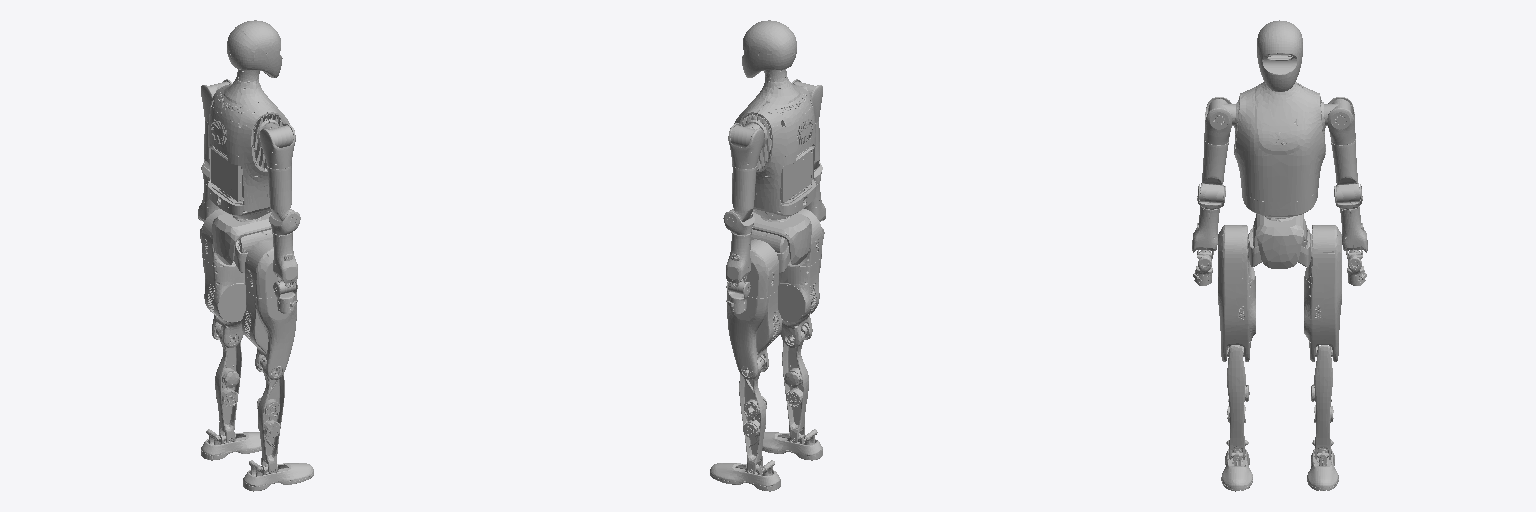
--- What the picture shows (computed from the rendered views, not written in the file) ---
The picture shows the robot from 3 angles, left to right: view 1: azimuth 30°, elevation 25°; view 2: azimuth 150°, elevation 25°; view 3: azimuth 270°, elevation 25°; orthographic projection.
Model tiangong2pro_urdf with 34 links and 33 joints (30 revolute, 3 fixed), rooted at pelvis, posed every joint at zero.
Visible links, largest first — view 1: body_yaw_link, hip_yaw_r_link, hip_yaw_l_link, head_roll_link, pelvis, knee_pitch_r_link, knee_pitch_l_link, hip_pitch_r_link, ankle_roll_r_link, ankle_roll_l_link, shoulder_yaw_r_link, elbow_yaw_r_link (+2 smaller); view 2: body_yaw_link, hip_yaw_l_link, hip_yaw_r_link, head_roll_link, pelvis, knee_pitch_r_link, knee_pitch_l_link, hip_pitch_l_link, ankle_roll_l_link, ankle_roll_r_link, shoulder_yaw_l_link, elbow_yaw_l_link (+2 smaller); view 3: body_yaw_link, head_roll_link, hip_yaw_r_link, hip_yaw_l_link, pelvis, knee_pitch_l_link, knee_pitch_r_link, hip_pitch_l_link, hip_pitch_r_link, shoulder_yaw_l_link, shoulder_yaw_r_link, ankle_roll_r_link (+5 smaller).
Link boxes in pixels (bbox=[...]): body_yaw_link: bbox=[208, 78, 291, 219]; hip_yaw_r_link: bbox=[242, 290, 296, 379]; hip_yaw_l_link: bbox=[203, 259, 245, 347]; head_roll_link: bbox=[227, 20, 282, 77]; pelvis: bbox=[212, 212, 272, 264]; knee_pitch_r_link: bbox=[257, 358, 284, 473]; knee_pitch_l_link: bbox=[215, 326, 241, 442]; hip_pitch_r_link: bbox=[245, 240, 296, 298]; ankle_roll_r_link: bbox=[243, 460, 313, 491]; ankle_roll_l_link: bbox=[201, 429, 261, 460]; shoulder_yaw_r_link: bbox=[267, 166, 293, 221]; elbow_yaw_r_link: bbox=[272, 232, 297, 287]; body_yaw_link: bbox=[732, 79, 815, 219]; hip_yaw_l_link: bbox=[727, 290, 781, 379]; hip_yaw_r_link: bbox=[778, 258, 821, 347]; head_roll_link: bbox=[742, 20, 796, 77]; pelvis: bbox=[751, 212, 811, 264]; knee_pitch_r_link: bbox=[782, 326, 808, 442]; knee_pitch_l_link: bbox=[739, 358, 766, 473]; hip_pitch_l_link: bbox=[743, 239, 778, 298]; ankle_roll_l_link: bbox=[710, 460, 780, 491]; ankle_roll_r_link: bbox=[762, 429, 822, 460]; shoulder_yaw_l_link: bbox=[730, 166, 756, 221]; elbow_yaw_l_link: bbox=[726, 232, 751, 287]; body_yaw_link: bbox=[1234, 82, 1325, 218]; head_roll_link: bbox=[1257, 20, 1302, 91]; hip_yaw_r_link: bbox=[1218, 271, 1255, 361]; hip_yaw_l_link: bbox=[1304, 271, 1341, 361]; pelvis: bbox=[1253, 214, 1306, 268]; knee_pitch_l_link: bbox=[1311, 345, 1333, 459]; knee_pitch_r_link: bbox=[1227, 345, 1249, 459]; hip_pitch_l_link: bbox=[1306, 225, 1341, 283]; hip_pitch_r_link: bbox=[1218, 225, 1253, 283]; shoulder_yaw_l_link: bbox=[1331, 139, 1360, 202]; shoulder_yaw_r_link: bbox=[1199, 140, 1228, 202]; ankle_roll_r_link: bbox=[1221, 440, 1252, 491].
Bounding box of the posed robot: 0.3025 × 0.6138 × 1.73 m (x, y, z).
Meshes: 34 distinct files referenced, 34 mesh visuals loaded (34 binary STL).

The robot description file, URDF, robot "tiangong2pro_urdf":
<?xml version='1.0' encoding='utf-8'?>
<robot name="tiangong2pro_urdf">
  <link name="pelvis">
    <inertial>
      <origin xyz="-0.000979 0.00068 -0.076922" rpy="0 0 0" />
      <mass value="5.639" />
      <inertia ixx="0.018304" ixy="-0.004328" ixz="6.1e-05" iyy="0.023292" iyz="6e-05" izz="0.024244" />
    </inertial>
    <visual>
      <origin xyz="0 0 0" rpy="0 0 0" />
      <geometry>
        <mesh filename="../meshes_decimated/pelvis.STL" />
      </geometry>
      <material name="">
        <color rgba="0.752941176470588 0.752941176470588 0.752941176470588 1" />
      </material>
    </visual>
    <collision>
      <origin xyz="0 0 0" rpy="0 0 0" />
      <geometry>
        <mesh filename="../meshes_decimated/pelvis.STL" />
      </geometry>
    </collision>
  </link>
  <link name="hip_roll_l_link">
    <inertial>
      <origin xyz="-0.001848 0.055849 -0.036017" rpy="0 0 0" />
      <mass value="0.672983" />
      <inertia ixx="0.00102" ixy="-7e-05" ixz="3.8e-05" iyy="0.003221" iyz="0.000281" izz="0.003272" />
    </inertial>
    <visual>
      <origin xyz="0 0 0" rpy="0 0 0" />
      <geometry>
        <mesh filename="../meshes_decimated/hip_roll_l_link.STL" />
      </geometry>
      <material name="">
        <color rgba="0.752941176470588 0.752941176470588 0.752941176470588 1" />
      </material>
    </visual>
    <collision>
      <origin xyz="0 0 0" rpy="0 0 0" />
      <geometry>
        <mesh filename="../meshes_decimated/hip_roll_l_link.STL" />
      </geometry>
    </collision>
  </link>
  <joint name="hip_roll_l_joint" type="revolute">
    <origin xyz="0 0.028 -0.0857" rpy="0 0 0" />
    <parent link="pelvis" />
    <child link="hip_roll_l_link" />
    <axis xyz="1 0 0" />
    <limit lower="-0.7853981633974483" upper="0.7853981633974483" effort="235.0" velocity="16.755160819145562" />
  </joint>
  <link name="hip_pitch_l_link">
    <inertial>
      <origin xyz="0.001081 -8.8e-05 -0.013133" rpy="0 0 0" />
      <mass value="3.951912" />
      <inertia ixx="0.010841" ixy="-2.7e-05" ixz="0.000234" iyy="0.015597" iyz="0.000123" izz="0.00934" />
    </inertial>
    <visual>
      <origin xyz="0 0 0" rpy="0 0 0" />
      <geometry>
        <mesh filename="../meshes_decimated/hip_pitch_l_link.STL" />
      </geometry>
      <material name="">
        <color rgba="0.752941176470588 0.752941176470588 0.752941176470588 1" />
      </material>
    </visual>
    <collision>
      <origin xyz="0 0 0" rpy="0 0 0" />
      <geometry>
        <mesh filename="../meshes_decimated/hip_pitch_l_link.STL" />
      </geometry>
    </collision>
  </link>
  <joint name="hip_pitch_l_joint" type="revolute">
    <origin xyz="0 0.122 -0.046" rpy="0 0 0" />
    <parent link="hip_roll_l_link" />
    <child link="hip_pitch_l_link" />
    <axis xyz="0 1 0" />
    <limit lower="-2.792526803190927" upper="2.0943951023931953" effort="330.0" velocity="15.707963267948966" />
  </joint>
  <link name="hip_yaw_l_link">
    <inertial>
      <origin xyz="0.004102 -0.006542 -0.121068" rpy="0 0 0" />
      <mass value="6.670795" />
      <inertia ixx="0.049573" ixy="-0.000228" ixz="-4.4e-05" iyy="0.053307" iyz="-0.001401" izz="0.017924" />
    </inertial>
    <visual>
      <origin xyz="0 0 0" rpy="0 0 0" />
      <geometry>
        <mesh filename="../meshes_decimated/hip_yaw_l_link.STL" />
      </geometry>
      <material name="">
        <color rgba="0.752941176470588 0.752941176470588 0.752941176470588 1" />
      </material>
    </visual>
    <collision>
      <origin xyz="0 0 0" rpy="0 0 0" />
      <geometry>
        <mesh filename="../meshes_decimated/hip_yaw_l_link.STL" />
      </geometry>
    </collision>
  </link>
  <joint name="hip_yaw_l_joint" type="revolute">
    <origin xyz="0 -0.00015 -0.0987" rpy="0 0 0" />
    <parent link="hip_pitch_l_link" />
    <child link="hip_yaw_l_link" />
    <axis xyz="0 0 1" />
    <limit lower="-1.0471975511965976" upper="1.0471975511965976" effort="235.0" velocity="16.755160819145562" />
  </joint>
  <link name="knee_pitch_l_link">
    <inertial>
      <origin xyz="0.00018 0.001915 -0.178653" rpy="0 0 0" />
      <mass value="2.312685" />
      <inertia ixx="0.030244" ixy="-1e-05" ixz="-0.002398" iyy="0.03091" iyz="-0.000689" izz="0.002922" />
    </inertial>
    <visual>
      <origin xyz="0 0 0" rpy="0 0 0" />
      <geometry>
        <mesh filename="../meshes_decimated/knee_pitch_l_link.STL" />
      </geometry>
      <material name="">
        <color rgba="0.752941176470588 0.752941176470588 0.752941176470588 1" />
      </material>
    </visual>
    <collision>
      <origin xyz="0 0 0" rpy="0 0 0" />
      <geometry>
        <mesh filename="../meshes_decimated/knee_pitch_l_link.STL" />
      </geometry>
    </collision>
  </link>
  <joint name="knee_pitch_l_joint" type="revolute">
    <origin xyz="0 0.00010715 -0.3013" rpy="0 0 0" />
    <parent link="hip_yaw_l_link" />
    <child link="knee_pitch_l_link" />
    <axis xyz="0 1 0" />
    <limit lower="0.0" upper="2.3911010752322315" effort="330.0" velocity="15.707963267948966" />
  </joint>
  <link name="ankle_pitch_l_link">
    <inertial>
      <origin xyz="0.0 0.0 0.0" rpy="0 0 0" />
      <mass value="0.111609" />
      <inertia ixx="1.8e-05" ixy="0.0" ixz="0.0" iyy="1.8e-05" iyz="0.0" izz="3.2e-05" />
    </inertial>
    <visual>
      <origin xyz="0 0 0" rpy="0 0 0" />
      <geometry>
        <mesh filename="../meshes_decimated/ankle_pitch_l_link.STL" />
      </geometry>
      <material name="">
        <color rgba="0.752941176470588 0.752941176470588 0.752941176470588 1" />
      </material>
    </visual>
    <collision>
      <origin xyz="0 0 0" rpy="0 0 0" />
      <geometry>
        <mesh filename="../meshes_decimated/ankle_pitch_l_link.STL" />
      </geometry>
    </collision>
  </link>
  <joint name="ankle_pitch_l_joint" type="revolute">
    <origin xyz="0 0 -0.4" rpy="0 0 0" />
    <parent link="knee_pitch_l_link" />
    <child link="ankle_pitch_l_link" />
    <axis xyz="0 1 0" />
    <limit lower="-1.2217304763960306" upper="0.5235987755982988" effort="55.0" velocity="14.137166941154069" />
  </joint>
  <link name="ankle_roll_l_link">
    <inertial>
      <origin xyz="0.021235 0.0 -0.032883" rpy="0 0 0" />
      <mass value="1.017381" />
      <inertia ixx="0.001028" ixy="0.0" ixz="0.000622" iyy="0.006055" iyz="0.0" izz="0.00624" />
    </inertial>
    <visual>
      <origin xyz="0 0 0" rpy="0 0 0" />
      <geometry>
        <mesh filename="../meshes_decimated/ankle_roll_l_link.STL" />
      </geometry>
      <material name="">
        <color rgba="0.752941176470588 0.752941176470588 0.752941176470588 1" />
      </material>
    </visual>
    <collision>
      <origin xyz="0 0 0" rpy="0 0 0" />
      <geometry>
        <mesh filename="../meshes_decimated/ankle_roll_l_link.STL" />
      </geometry>
    </collision>
  </link>
  <joint name="ankle_roll_l_joint" type="revolute">
    <origin xyz="0 0 0" rpy="0 0 0" />
    <parent link="ankle_pitch_l_link" />
    <child link="ankle_roll_l_link" />
    <axis xyz="1 0 0" />
    <limit lower="-0.5235987755982988" upper="0.5235987755982988" effort="55.0" velocity="14.137166941154069" />
  </joint>
  <link name="hip_roll_r_link">
    <inertial>
      <origin xyz="-0.001848 -0.055849 -0.036017" rpy="0 0 0" />
      <mass value="0.672983" />
      <inertia ixx="0.00102" ixy="7e-05" ixz="3.8e-05" iyy="0.003221" iyz="-0.000281" izz="0.003272" />
    </inertial>
    <visual>
      <origin xyz="0 0 0" rpy="0 0 0" />
      <geometry>
        <mesh filename="../meshes_decimated/hip_roll_r_link.STL" />
      </geometry>
      <material name="">
        <color rgba="0.752941176470588 0.752941176470588 0.752941176470588 1" />
      </material>
    </visual>
    <collision>
      <origin xyz="0 0 0" rpy="0 0 0" />
      <geometry>
        <mesh filename="../meshes_decimated/hip_roll_r_link.STL" />
      </geometry>
    </collision>
  </link>
  <joint name="hip_roll_r_joint" type="revolute">
    <origin xyz="0 -0.028 -0.0857" rpy="0 0 0" />
    <parent link="pelvis" />
    <child link="hip_roll_r_link" />
    <axis xyz="1 0 0" />
    <limit lower="-0.7853981633974483" upper="0.7853981633974483" effort="235.0" velocity="16.755160819145562" />
  </joint>
  <link name="hip_pitch_r_link">
    <inertial>
      <origin xyz="0.001081 8.8e-05 -0.013133" rpy="0 0 0" />
      <mass value="3.951912" />
      <inertia ixx="0.010841" ixy="2.7e-05" ixz="0.000234" iyy="0.015597" iyz="-0.000123" izz="0.00934" />
    </inertial>
    <visual>
      <origin xyz="0 0 0" rpy="0 0 0" />
      <geometry>
        <mesh filename="../meshes_decimated/hip_pitch_r_link.STL" />
      </geometry>
      <material name="">
        <color rgba="0.752941176470588 0.752941176470588 0.752941176470588 1" />
      </material>
    </visual>
    <collision>
      <origin xyz="0 0 0" rpy="0 0 0" />
      <geometry>
        <mesh filename="../meshes_decimated/hip_pitch_r_link.STL" />
      </geometry>
    </collision>
  </link>
  <joint name="hip_pitch_r_joint" type="revolute">
    <origin xyz="0 -0.122 -0.046" rpy="0 0 0" />
    <parent link="hip_roll_r_link" />
    <child link="hip_pitch_r_link" />
    <axis xyz="0 1 0" />
    <limit lower="-2.792526803190927" upper="2.0943951023931953" effort="330.0" velocity="15.707963267948966" />
  </joint>
  <link name="hip_yaw_r_link">
    <inertial>
      <origin xyz="0.004102 0.006542 -0.121068" rpy="0 0 0" />
      <mass value="6.670795" />
      <inertia ixx="0.049573" ixy="0.000228" ixz="-4.4e-05" iyy="0.053307" iyz="0.001401" izz="0.017924" />
    </inertial>
    <visual>
      <origin xyz="0 0 0" rpy="0 0 0" />
      <geometry>
        <mesh filename="../meshes_decimated/hip_yaw_r_link.STL" />
      </geometry>
      <material name="">
        <color rgba="0.752941176470588 0.752941176470588 0.752941176470588 1" />
      </material>
    </visual>
    <collision>
      <origin xyz="0 0 0" rpy="0 0 0" />
      <geometry>
        <mesh filename="../meshes_decimated/hip_yaw_r_link.STL" />
      </geometry>
    </collision>
  </link>
  <joint name="hip_yaw_r_joint" type="revolute">
    <origin xyz="0 0 -0.0987" rpy="0 0 0" />
    <parent link="hip_pitch_r_link" />
    <child link="hip_yaw_r_link" />
    <axis xyz="0 0 1" />
    <limit lower="-1.0471975511965976" upper="1.0471975511965976" effort="235.0" velocity="16.755160819145562" />
  </joint>
  <link name="knee_pitch_r_link">
    <inertial>
      <origin xyz="0.00018 -0.001915 -0.178653" rpy="0 0 0" />
      <mass value="2.312685" />
      <inertia ixx="0.030244" ixy="1e-05" ixz="-0.002398" iyy="0.03091" iyz="0.000689" izz="0.002922" />
    </inertial>
    <visual>
      <origin xyz="0 0 0" rpy="0 0 0" />
      <geometry>
        <mesh filename="../meshes_decimated/knee_pitch_r_link.STL" />
      </geometry>
      <material name="">
        <color rgba="0.752941176470588 0.752941176470588 0.752941176470588 1" />
      </material>
    </visual>
    <collision>
      <origin xyz="0 0 0" rpy="0 0 0" />
      <geometry>
        <mesh filename="../meshes_decimated/knee_pitch_r_link.STL" />
      </geometry>
    </collision>
  </link>
  <joint name="knee_pitch_r_joint" type="revolute">
    <origin xyz="0 9.9938E-05 -0.3013" rpy="0 0 0" />
    <parent link="hip_yaw_r_link" />
    <child link="knee_pitch_r_link" />
    <axis xyz="0 1 0" />
    <limit lower="0.0" upper="2.3911010752322315" effort="330.0" velocity="15.707963267948966" />
  </joint>
  <link name="ankle_pitch_r_link">
    <inertial>
      <origin xyz="0.0 0.0 0.0" rpy="0 0 0" />
      <mass value="0.111609" />
      <inertia ixx="1.8e-05" ixy="0.0" ixz="0.0" iyy="1.8e-05" iyz="0.0" izz="3.2e-05" />
    </inertial>
    <visual>
      <origin xyz="0 0 0" rpy="0 0 0" />
      <geometry>
        <mesh filename="../meshes_decimated/ankle_pitch_r_link.STL" />
      </geometry>
      <material name="">
        <color rgba="0.752941176470588 0.752941176470588 0.752941176470588 1" />
      </material>
    </visual>
    <collision>
      <origin xyz="0 0 0" rpy="0 0 0" />
      <geometry>
        <mesh filename="../meshes_decimated/ankle_pitch_r_link.STL" />
      </geometry>
    </collision>
  </link>
  <joint name="ankle_pitch_r_joint" type="revolute">
    <origin xyz="0 0.00099989 -0.4" rpy="0 0 0" />
    <parent link="knee_pitch_r_link" />
    <child link="ankle_pitch_r_link" />
    <axis xyz="0 1 0" />
    <limit lower="-1.2217304763960306" upper="0.5235987755982988" effort="55.0" velocity="14.137166941154069" />
  </joint>
  <link name="ankle_roll_r_link">
    <inertial>
      <origin xyz="0.021235 0.0 -0.032883" rpy="0 0 0" />
      <mass value="1.017381" />
      <inertia ixx="0.001028" ixy="0.0" ixz="0.000622" iyy="0.006055" iyz="0.0" izz="0.00624" />
    </inertial>
    <visual>
      <origin xyz="0 0 0" rpy="0 0 0" />
      <geometry>
        <mesh filename="../meshes_decimated/ankle_roll_r_link.STL" />
      </geometry>
      <material name="">
        <color rgba="0.752941176470588 0.752941176470588 0.752941176470588 1" />
      </material>
    </visual>
    <collision>
      <origin xyz="0 0 0" rpy="0 0 0" />
      <geometry>
        <mesh filename="../meshes_decimated/ankle_roll_r_link.STL" />
      </geometry>
    </collision>
  </link>
  <joint name="ankle_roll_r_joint" type="revolute">
    <origin xyz="0 0 0" rpy="0 0 0" />
    <parent link="ankle_pitch_r_link" />
    <child link="ankle_roll_r_link" />
    <axis xyz="1 0 0" />
    <limit lower="-0.5235987755982988" upper="0.5235987755982988" effort="55.0" velocity="14.137166941154069" />
  </joint>
  <link name="body_yaw_link">
    <inertial>
      <origin xyz="-0.000568 0.00056 0.231488" rpy="0 0 0" />
      <mass value="22.0" />
      <inertia ixx="0.429034" ixy="0.000293" ixz="-0.003462" iyy="0.379055" iyz="0.000237" izz="0.177142" />
    </inertial>
    <visual>
      <origin xyz="0 0 0" rpy="0 0 0" />
      <geometry>
        <mesh filename="../meshes_decimated/body_yaw_link.STL" />
      </geometry>
      <material name="">
        <color rgba="0.752941176470588 0.752941176470588 0.752941176470588 1" />
      </material>
    </visual>
    <collision>
      <origin xyz="0 0 0" rpy="0 0 0" />
      <geometry>
        <mesh filename="../meshes_decimated/body_yaw_link.STL" />
      </geometry>
    </collision>
  </link>
  <joint name="body_yaw_joint" type="revolute">
    <origin xyz="0 0 0" rpy="0 0 0" />
    <parent link="pelvis" />
    <child link="body_yaw_link" />
    <axis xyz="0 0 1" />
    <limit lower="-2.9670597283903604" upper="2.9670597283903604" effort="91.0" velocity="9.215338450530059" />
  </joint>
  <link name="head_yaw_link">
    <inertial>
      <origin xyz="-0.000202 0.000454 0.007248" rpy="0 0 0" />
      <mass value="0.088397" />
      <inertia ixx="9.5e-05" ixy="-1e-06" ixz="-3e-06" iyy="7.6e-05" iyz="-3e-06" izz="0.000106" />
    </inertial>
    <visual>
      <origin xyz="0 0 0" rpy="0 0 0" />
      <geometry>
        <mesh filename="../meshes_decimated/head_yaw_link.STL" />
      </geometry>
      <material name="">
        <color rgba="0.752941176470588 0.752941176470588 0.752941176470588 1" />
      </material>
    </visual>
    <collision>
      <origin xyz="0 0 0" rpy="0 0 0" />
      <geometry>
        <mesh filename="../meshes_decimated/head_yaw_link.STL" />
      </geometry>
    </collision>
  </link>
  <joint name="head_yaw_joint" type="revolute">
    <origin xyz="-0.002 0 0.56508" rpy="0 0 0" />
    <parent link="body_yaw_link" />
    <child link="head_yaw_link" />
    <axis xyz="0 0 1" />
    <limit lower="-1.5707963267948966" upper="1.5707963267948966" effort="6.3" velocity="7.5398223686155035" />
  </joint>
  <link name="head_pitch_link">
    <inertial>
      <origin xyz="-0.000274 0.004118 2.3e-05" rpy="0 0 0" />
      <mass value="0.23046" />
      <inertia ixx="9.2e-05" ixy="1e-06" ixz="-1e-06" iyy="5.4e-05" iyz="0.0" izz="9.5e-05" />
    </inertial>
    <visual>
      <origin xyz="0 0 0" rpy="0 0 0" />
      <geometry>
        <mesh filename="../meshes_decimated/head_pitch_link.STL" />
      </geometry>
      <material name="">
        <color rgba="0.752941176470588 0.752941176470588 0.752941176470588 1" />
      </material>
    </visual>
    <collision>
      <origin xyz="0 0 0" rpy="0 0 0" />
      <geometry>
        <mesh filename="../meshes_decimated/head_pitch_link.STL" />
      </geometry>
    </collision>
  </link>
  <joint name="head_pitch_joint" type="revolute">
    <origin xyz="0.01455 0 0.0304" rpy="0 0.2618 0" />
    <parent link="head_yaw_link" />
    <child link="head_pitch_link" />
    <axis xyz="0 1 0" />
    <limit lower="-0.4363323129985824" upper="0.4363323129985824" effort="6.3" velocity="7.5398223686155035" />
  </joint>
  <link name="head_roll_link">
    <inertial>
      <origin xyz="0.022467 0.001208 0.053952" rpy="0 0 0" />
      <mass value="0.844627" />
      <inertia ixx="0.00235" ixy="3.8e-05" ixz="0.000436" iyy="0.003365" iyz="6e-06" izz="0.002875" />
    </inertial>
    <visual>
      <origin xyz="0 0 0" rpy="0 0 0" />
      <geometry>
        <mesh filename="../meshes_decimated/head_roll_link.STL" />
      </geometry>
      <material name="">
        <color rgba="0.752941176470588 0.752941176470588 0.752941176470588 1" />
      </material>
    </visual>
    <collision>
      <origin xyz="0 0 0" rpy="0 0 0" />
      <geometry>
        <mesh filename="../meshes_decimated/head_roll_link.STL" />
      </geometry>
    </collision>
  </link>
  <joint name="head_roll_joint" type="revolute">
    <origin xyz="0 0 0" rpy="0 0 0" />
    <parent link="head_pitch_link" />
    <child link="head_roll_link" />
    <axis xyz="1 0 0" />
    <limit lower="-0.4537856055185257" upper="0.4537856055185257" effort="6.3" velocity="7.5398223686155035" />
  </joint>
  <link name="shoulder_pitch_l_link">
    <inertial>
      <origin xyz="0.007494 0.064184 -2e-05" rpy="0 0 0" />
      <mass value="1.032698" />
      <inertia ixx="0.001025" ixy="-2.7e-05" ixz="-1e-06" iyy="0.001078" iyz="0.0" izz="0.001247" />
    </inertial>
    <visual>
      <origin xyz="0 0 0" rpy="0 0 0" />
      <geometry>
        <mesh filename="../meshes_decimated/shoulder_pitch_l_link.STL" />
      </geometry>
      <material name="">
        <color rgba="0.752941176470588 0.752941176470588 0.752941176470588 1" />
      </material>
    </visual>
    <collision>
      <origin xyz="0 0 0" rpy="0 0 0" />
      <geometry>
        <mesh filename="../meshes_decimated/shoulder_pitch_l_link.STL" />
      </geometry>
    </collision>
  </link>
  <joint name="shoulder_pitch_l_joint" type="revolute">
    <origin xyz="0 0.1444 0.37712" rpy="0.087266 0 0" />
    <parent link="body_yaw_link" />
    <child link="shoulder_pitch_l_link" />
    <axis xyz="0 1 0" />
    <limit lower="-2.9670597283903604" upper="2.9670597283903604" effort="91.0" velocity="9.215338450530059" />
  </joint>
  <link name="shoulder_roll_l_link">
    <inertial>
      <origin xyz="0.002389 0.002259 -0.048236" rpy="0 0 0" />
      <mass value="0.440997" />
      <inertia ixx="0.001001" ixy="-4e-06" ixz="-2.5e-05" iyy="0.001313" iyz="-1.4e-05" izz="0.000911" />
    </inertial>
    <visual>
      <origin xyz="0 0 0" rpy="0 0 0" />
      <geometry>
        <mesh filename="../meshes_decimated/shoulder_roll_l_link.STL" />
      </geometry>
      <material name="">
        <color rgba="0.752941176470588 0.752941176470588 0.752941176470588 1" />
      </material>
    </visual>
    <collision>
      <origin xyz="0 0 0" rpy="0 0 0" />
      <geometry>
        <mesh filename="../meshes_decimated/shoulder_roll_l_link.STL" />
      </geometry>
    </collision>
  </link>
  <joint name="shoulder_roll_l_joint" type="revolute">
    <origin xyz="0 0.068 0" rpy="0 0 0" />
    <parent link="shoulder_pitch_l_link" />
    <child link="shoulder_roll_l_link" />
    <axis xyz="1 0 0" />
    <limit lower="-0.2618" upper="2.6180" effort="95.0" velocity="3.979350694547071" />
  </joint>
  <link name="shoulder_yaw_l_link">
    <inertial>
      <origin xyz="0.008319 0.002686 -0.112525" rpy="0 0 0" />
      <mass value="1.365033" />
      <inertia ixx="0.009637" ixy="-5.7e-05" ixz="0.00095" iyy="0.0096" iyz="0.000339" izz="0.001331" />
    </inertial>
    <visual>
      <origin xyz="0 0 0" rpy="0 0 0" />
      <geometry>
        <mesh filename="../meshes_decimated/shoulder_yaw_l_link.STL" />
      </geometry>
      <material name="">
        <color rgba="0.752941176470588 0.752941176470588 0.752941176470588 1" />
      </material>
    </visual>
    <collision>
      <origin xyz="0 0 0" rpy="0 0 0" />
      <geometry>
        <mesh filename="../meshes_decimated/shoulder_yaw_l_link.STL" />
      </geometry>
    </collision>
  </link>
  <joint name="shoulder_yaw_l_joint" type="revolute">
    <origin xyz="0 0 -0.1025" rpy="0 0 0" />
    <parent link="shoulder_roll_l_link" />
    <child link="shoulder_yaw_l_link" />
    <axis xyz="0 0 1" />
    <limit lower="-2.9670597283903604" upper="2.9670597283903604" effort="35.0" velocity="5.235987755982989" />
  </joint>
  <link name="elbow_pitch_l_link">
    <inertial>
      <origin xyz="-0.014694 -7.2e-05 -0.026081" rpy="0 0 0" />
      <mass value="0.246311" />
      <inertia ixx="0.000381" ixy="1e-06" ixz="-1.2e-05" iyy="0.000222" iyz="2e-06" izz="0.000401" />
    </inertial>
    <visual>
      <origin xyz="0 0 0" rpy="0 0 0" />
      <geometry>
        <mesh filename="../meshes_decimated/elbow_pitch_l_link.STL" />
      </geometry>
      <material name="">
        <color rgba="0.752941176470588 0.752941176470588 0.752941176470588 1" />
      </material>
    </visual>
    <collision>
      <origin xyz="0 0 0" rpy="0 0 0" />
      <geometry>
        <mesh filename="../meshes_decimated/elbow_pitch_l_link.STL" />
      </geometry>
    </collision>
  </link>
  <joint name="elbow_pitch_l_joint" type="revolute">
    <origin xyz="0.02 0 -0.1975" rpy="0 0 0" />
    <parent link="shoulder_yaw_l_link" />
    <child link="elbow_pitch_l_link" />
    <axis xyz="0 1 0" />
    <limit lower="-2.6179938779914944" upper="0.2617993877991494" effort="35.0" velocity="5.235987755982989" />
  </joint>
  <link name="elbow_yaw_l_link">
    <inertial>
      <origin xyz="0.000158 0.001503 -0.069535" rpy="0 0 0" />
      <mass value="0.986828" />
      <inertia ixx="0.003108" ixy="-1e-06" ixz="8e-06" iyy="0.003035" iyz="8.9e-05" izz="0.00058" />
    </inertial>
    <visual>
      <origin xyz="0 0 0" rpy="0 0 0" />
      <geometry>
        <mesh filename="../meshes_decimated/elbow_yaw_l_link.STL" />
      </geometry>
      <material name="">
        <color rgba="0.752941176470588 0.752941176470588 0.752941176470588 1" />
      </material>
    </visual>
    <collision>
      <origin xyz="0 0 0" rpy="0 0 0" />
      <geometry>
        <mesh filename="../meshes_decimated/elbow_yaw_l_link.STL" />
      </geometry>
    </collision>
  </link>
  <joint name="elbow_yaw_l_joint" type="revolute">
    <origin xyz="-0.02 0 -0.0543" rpy="0 0 0" />
    <parent link="elbow_pitch_l_link" />
    <child link="elbow_yaw_l_link" />
    <axis xyz="0 0 1" />
    <limit lower="-2.9670597283903604" upper="2.9670597283903604" effort="24.0" velocity="10.471975511965978" />
  </joint>
  <link name="wrist_pitch_l_link">
    <inertial>
      <origin xyz="0.005362 0.00064 -0.018812" rpy="0 0 0" />
      <mass value="0.262007" />
      <inertia ixx="7.1e-05" ixy="-3e-06" ixz="-2e-06" iyy="0.000112" iyz="-3e-06" izz="0.000111" />
    </inertial>
    <visual>
      <origin xyz="0 0 0" rpy="0 0 0" />
      <geometry>
        <mesh filename="../meshes_decimated/wrist_pitch_l_link.STL" />
      </geometry>
      <material name="">
        <color rgba="0.752941176470588 0.752941176470588 0.752941176470588 1" />
      </material>
    </visual>
    <collision>
      <origin xyz="0 0 0" rpy="0 0 0" />
      <geometry>
        <mesh filename="../meshes_decimated/wrist_pitch_l_link.STL" />
      </geometry>
    </collision>
  </link>
  <joint name="wrist_pitch_l_joint" type="revolute">
    <origin xyz="0 0 -0.1887" rpy="0 0 0" />
    <parent link="elbow_yaw_l_link" />
    <child link="wrist_pitch_l_link" />
    <axis xyz="0 1 0" />
    <limit lower="-0.7854" upper="1.1345" effort="6.3" velocity="7.5398223686155035" />
  </joint>
  <link name="wrist_roll_l_link">
    <inertial>
      <origin xyz="0.000801 8.4e-05 -0.029302" rpy="0 0 0" />
      <mass value="0.131751" />
      <inertia ixx="6.9e-05" ixy="0.0" ixz="-1e-06" iyy="0.000116" iyz="0.0" izz="0.00011" />
    </inertial>
    <visual>
      <origin xyz="0 0 0" rpy="0 0 0" />
      <geometry>
        <mesh filename="../meshes_decimated/wrist_roll_l_link.STL" />
      </geometry>
      <material name="">
        <color rgba="0.752941176470588 0.752941176470588 0.752941176470588 1" />
      </material>
    </visual>
    <collision>
      <origin xyz="0 0 0" rpy="0 0 0" />
      <geometry>
        <mesh filename="../meshes_decimated/wrist_roll_l_link.STL" />
      </geometry>
    </collision>
  </link>
  <joint name="wrist_roll_l_joint" type="revolute">
    <origin xyz="0 0 -0.02" rpy="0 0 0" />
    <parent link="wrist_pitch_l_link" />
    <child link="wrist_roll_l_link" />
    <axis xyz="1 0 0" />
    <limit lower="-1.6581" upper="1.3090" effort="6.3" velocity="7.5398223686155035" />
  </joint>
  <link name="left_tcp_link">
    <inertial>
      <origin xyz="0.000415 0.000651 0.017052" rpy="0 0 0" />
      <mass value="0.218186" />
      <inertia ixx="8.6e-05" ixy="-2e-06" ixz="-1e-06" iyy="8.4e-05" iyz="-1e-06" izz="0.000109" />
    </inertial>
    <visual>
      <origin xyz="0 0 0" rpy="0 0 0" />
      <geometry>
        <mesh filename="../meshes_decimated/left_tcp_link.STL" />
      </geometry>
      <material name="">
        <color rgba="0.752941176470588 0.752941176470588 0.752941176470588 1" />
      </material>
    </visual>
    <collision>
      <origin xyz="0 0 0" rpy="0 0 0" />
      <geometry>
        <mesh filename="../meshes_decimated/left_tcp_link.STL" />
      </geometry>
    </collision>
  </link>
  <joint name="left_tcp_joint" type="fixed">
    <origin xyz="0 0 -0.0848" rpy="0 0 0" />
    <parent link="wrist_roll_l_link" />
    <child link="left_tcp_link" />
    <axis xyz="0 0 0" />
  </joint>
  <link name="shoulder_pitch_r_link">
    <inertial>
      <origin xyz="0.007494 -0.064184 -2e-05" rpy="0 0 0" />
      <mass value="1.032698" />
      <inertia ixx="0.001025" ixy="2.7e-05" ixz="-1e-06" iyy="0.001078" iyz="0.0" izz="0.001247" />
    </inertial>
    <visual>
      <origin xyz="0 0 0" rpy="0 0 0" />
      <geometry>
        <mesh filename="../meshes_decimated/shoulder_pitch_r_link.STL" />
      </geometry>
      <material name="">
        <color rgba="0.752941176470588 0.752941176470588 0.752941176470588 1" />
      </material>
    </visual>
    <collision>
      <origin xyz="0 0 0" rpy="0 0 0" />
      <geometry>
        <mesh filename="../meshes_decimated/shoulder_pitch_r_link.STL" />
      </geometry>
    </collision>
  </link>
  <joint name="shoulder_pitch_r_joint" type="revolute">
    <origin xyz="0 -0.1444 0.37712" rpy="-0.087266 0 0" />
    <parent link="body_yaw_link" />
    <child link="shoulder_pitch_r_link" />
    <axis xyz="0 1 0" />
    <limit lower="-2.9670597283903604" upper="2.9670597283903604" effort="91.0" velocity="9.215338450530059" />
  </joint>
  <link name="shoulder_roll_r_link">
    <inertial>
      <origin xyz="0.002389 -0.002259 -0.048236" rpy="0 0 0" />
      <mass value="0.440997" />
      <inertia ixx="0.001001" ixy="4e-06" ixz="-2.5e-05" iyy="0.001313" iyz="1.4e-05" izz="0.000911" />
    </inertial>
    <visual>
      <origin xyz="0 0 0" rpy="0 0 0" />
      <geometry>
        <mesh filename="../meshes_decimated/shoulder_roll_r_link.STL" />
      </geometry>
      <material name="">
        <color rgba="0.752941176470588 0.752941176470588 0.752941176470588 1" />
      </material>
    </visual>
    <collision>
      <origin xyz="0 0 0" rpy="0 0 0" />
      <geometry>
        <mesh filename="../meshes_decimated/shoulder_roll_r_link.STL" />
      </geometry>
    </collision>
  </link>
  <joint name="shoulder_roll_r_joint" type="revolute">
    <origin xyz="0 -0.068 0" rpy="0 0 0" />
    <parent link="shoulder_pitch_r_link" />
    <child link="shoulder_roll_r_link" />
    <axis xyz="1 0 0" />
    <limit lower="-2.6180" upper="0.2618" effort="95.0" velocity="3.979350694547071" />
  </joint>
  <link name="shoulder_yaw_r_link">
    <inertial>
      <origin xyz="0.008319 -0.002686 -0.112525" rpy="0 0 0" />
      <mass value="1.365033" />
      <inertia ixx="0.009637" ixy="5.7e-05" ixz="0.00095" iyy="0.0096" iyz="-0.000339" izz="0.001331" />
    </inertial>
    <visual>
      <origin xyz="0 0 0" rpy="0 0 0" />
      <geometry>
        <mesh filename="../meshes_decimated/shoulder_yaw_r_link.STL" />
      </geometry>
      <material name="">
        <color rgba="0.752941176470588 0.752941176470588 0.752941176470588 1" />
      </material>
    </visual>
    <collision>
      <origin xyz="0 0 0" rpy="0 0 0" />
      <geometry>
        <mesh filename="../meshes_decimated/shoulder_yaw_r_link.STL" />
      </geometry>
    </collision>
  </link>
  <joint name="shoulder_yaw_r_joint" type="revolute">
    <origin xyz="0 0 -0.1025" rpy="0 0 0" />
    <parent link="shoulder_roll_r_link" />
    <child link="shoulder_yaw_r_link" />
    <axis xyz="0 0 1" />
    <limit lower="-2.9670597283903604" upper="2.9670597283903604" effort="35.0" velocity="5.235987755982989" />
  </joint>
  <link name="elbow_pitch_r_link">
    <inertial>
      <origin xyz="-0.014694 7.2e-05 -0.026081" rpy="0 0 0" />
      <mass value="0.246311" />
      <inertia ixx="0.000381" ixy="-1e-06" ixz="-1.2e-05" iyy="0.000222" iyz="-2e-06" izz="0.000401" />
    </inertial>
    <visual>
      <origin xyz="0 0 0" rpy="0 0 0" />
      <geometry>
        <mesh filename="../meshes_decimated/elbow_pitch_r_link.STL" />
      </geometry>
      <material name="">
        <color rgba="0.752941176470588 0.752941176470588 0.752941176470588 1" />
      </material>
    </visual>
    <collision>
      <origin xyz="0 0 0" rpy="0 0 0" />
      <geometry>
        <mesh filename="../meshes_decimated/elbow_pitch_r_link.STL" />
      </geometry>
    </collision>
  </link>
  <joint name="elbow_pitch_r_joint" type="revolute">
    <origin xyz="0.02 0 -0.1975" rpy="0 0 0" />
    <parent link="shoulder_yaw_r_link" />
    <child link="elbow_pitch_r_link" />
    <axis xyz="0 1 0" />
    <limit lower="-2.6179938779914944" upper="0.2617993877991494" effort="35.0" velocity="5.235987755982989" />
  </joint>
  <link name="elbow_yaw_r_link">
    <inertial>
      <origin xyz="0.000158 -0.001503 -0.069535" rpy="0 0 0" />
      <mass value="0.986828" />
      <inertia ixx="0.003108" ixy="1e-06" ixz="8e-06" iyy="0.003035" iyz="-8.9e-05" izz="0.00058" />
    </inertial>
    <visual>
      <origin xyz="0 0 0" rpy="0 0 0" />
      <geometry>
        <mesh filename="../meshes_decimated/elbow_yaw_r_link.STL" />
      </geometry>
      <material name="">
        <color rgba="0.752941176470588 0.752941176470588 0.752941176470588 1" />
      </material>
    </visual>
    <collision>
      <origin xyz="0 0 0" rpy="0 0 0" />
      <geometry>
        <mesh filename="../meshes_decimated/elbow_yaw_r_link.STL" />
      </geometry>
    </collision>
  </link>
  <joint name="elbow_yaw_r_joint" type="revolute">
    <origin xyz="-0.02 0 -0.0543" rpy="0 0 0" />
    <parent link="elbow_pitch_r_link" />
    <child link="elbow_yaw_r_link" />
    <axis xyz="0 0 1" />
    <limit lower="-2.9670597283903604" upper="2.9670597283903604" effort="24.0" velocity="10.471975511965978" />
  </joint>
  <link name="wrist_pitch_r_link">
    <inertial>
      <origin xyz="0.005362 -0.00064 -0.018812" rpy="0 0 0" />
      <mass value="0.262007" />
      <inertia ixx="7.1e-05" ixy="3e-06" ixz="-2e-06" iyy="0.000112" iyz="3e-06" izz="0.000111" />
    </inertial>
    <visual>
      <origin xyz="0 0 0" rpy="0 0 0" />
      <geometry>
        <mesh filename="../meshes_decimated/wrist_pitch_r_link.STL" />
      </geometry>
      <material name="">
        <color rgba="0.752941176470588 0.752941176470588 0.752941176470588 1" />
      </material>
    </visual>
    <collision>
      <origin xyz="0 0 0" rpy="0 0 0" />
      <geometry>
        <mesh filename="../meshes_decimated/wrist_pitch_r_link.STL" />
      </geometry>
    </collision>
  </link>
  <joint name="wrist_pitch_r_joint" type="revolute">
    <origin xyz="0 0 -0.1887" rpy="0 0 0" />
    <parent link="elbow_yaw_r_link" />
    <child link="wrist_pitch_r_link" />
    <axis xyz="0 1 0" />
    <limit lower="-0.7854" upper="1.0472" effort="6.3" velocity="7.5398223686155035" />
  </joint>
  <link name="wrist_roll_r_link">
    <inertial>
      <origin xyz="0.000801 -8.4e-05 -0.029302" rpy="0 0 0" />
      <mass value="0.131751" />
      <inertia ixx="6.9e-05" ixy="0.0" ixz="-1e-06" iyy="0.000116" iyz="0.0" izz="0.00011" />
    </inertial>
    <visual>
      <origin xyz="0 0 0" rpy="0 0 0" />
      <geometry>
        <mesh filename="../meshes_decimated/wrist_roll_r_link.STL" />
      </geometry>
      <material name="">
        <color rgba="0.752941176470588 0.752941176470588 0.752941176470588 1" />
      </material>
    </visual>
    <collision>
      <origin xyz="0 0 0" rpy="0 0 0" />
      <geometry>
        <mesh filename="../meshes_decimated/wrist_roll_r_link.STL" />
      </geometry>
    </collision>
  </link>
  <joint name="wrist_roll_r_joint" type="revolute">
    <origin xyz="0 0 -0.02" rpy="0 0 0" />
    <parent link="wrist_pitch_r_link" />
    <child link="wrist_roll_r_link" />
    <axis xyz="1 0 0" />
    <limit lower="-1.3090" upper="1.5708" effort="6.3" velocity="7.5398223686155035" />
  </joint>
  <link name="right_tcp_link">
    <inertial>
      <origin xyz="0.000415 -0.000651 0.017052" rpy="0 0 0" />
      <mass value="0.218186" />
      <inertia ixx="8.6e-05" ixy="2e-06" ixz="-1e-06" iyy="8.4e-05" iyz="1e-06" izz="0.000109" />
    </inertial>
    <visual>
      <origin xyz="0 0 0" rpy="0 0 0" />
      <geometry>
        <mesh filename="../meshes_decimated/right_tcp_link.STL" />
      </geometry>
      <material name="">
        <color rgba="0.752941176470588 0.752941176470588 0.752941176470588 1" />
      </material>
    </visual>
    <collision>
      <origin xyz="0 0 0" rpy="0 0 0" />
      <geometry>
        <mesh filename="../meshes_decimated/right_tcp_link.STL" />
      </geometry>
    </collision>
  </link>
  <joint name="right_tcp_joint" type="fixed">
    <origin xyz="0 0 -0.0848" rpy="0 0 0" />
    <parent link="wrist_roll_r_link" />
    <child link="right_tcp_link" />
    <axis xyz="0 0 0" />
  </joint>
  <link name="imu_link">
    <inertial>
      <origin xyz="-0.006331 -0.007725 -0.008045" rpy="0 0 0" />
      <mass value="0.02" />
      <inertia ixx="2e-06" ixy="0.0" ixz="0.0" iyy="3e-06" iyz="0.0" izz="4e-06" />
    </inertial>
    <visual>
      <origin xyz="0 0 0" rpy="0 0 0" />
      <geometry>
        <mesh filename="../meshes_decimated/imu_link.STL" />
      </geometry>
      <material name="">
        <color rgba="0.752941176470588 0.752941176470588 0.752941176470588 1" />
      </material>
    </visual>
    <collision>
      <origin xyz="0 0 0" rpy="0 0 0" />
      <geometry>
        <mesh filename="../meshes_decimated/imu_link.STL" />
      </geometry>
    </collision>
  </link>
  <joint name="imu_joint" type="fixed">
    <origin xyz="0.0499 -0.0358 -0.03194" rpy="0 0 0" />
    <parent link="pelvis" />
    <child link="imu_link" />
    <axis xyz="0 0 0" />
  </joint>
</robot>
